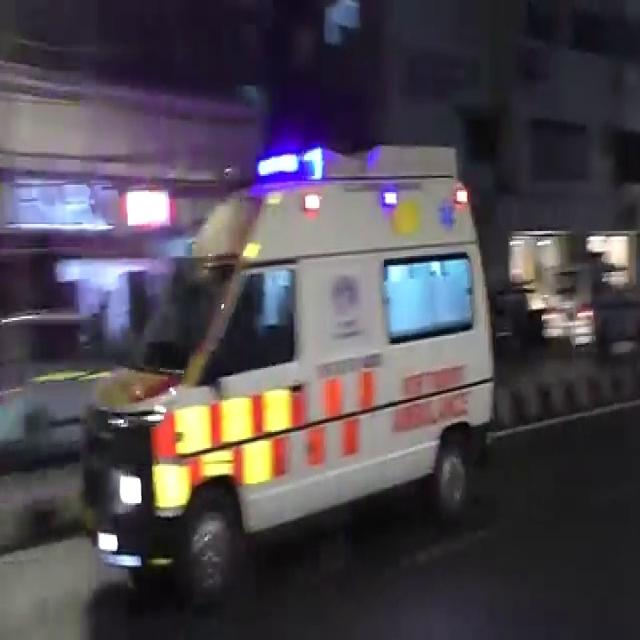ambulance: (77, 149, 486, 522)
